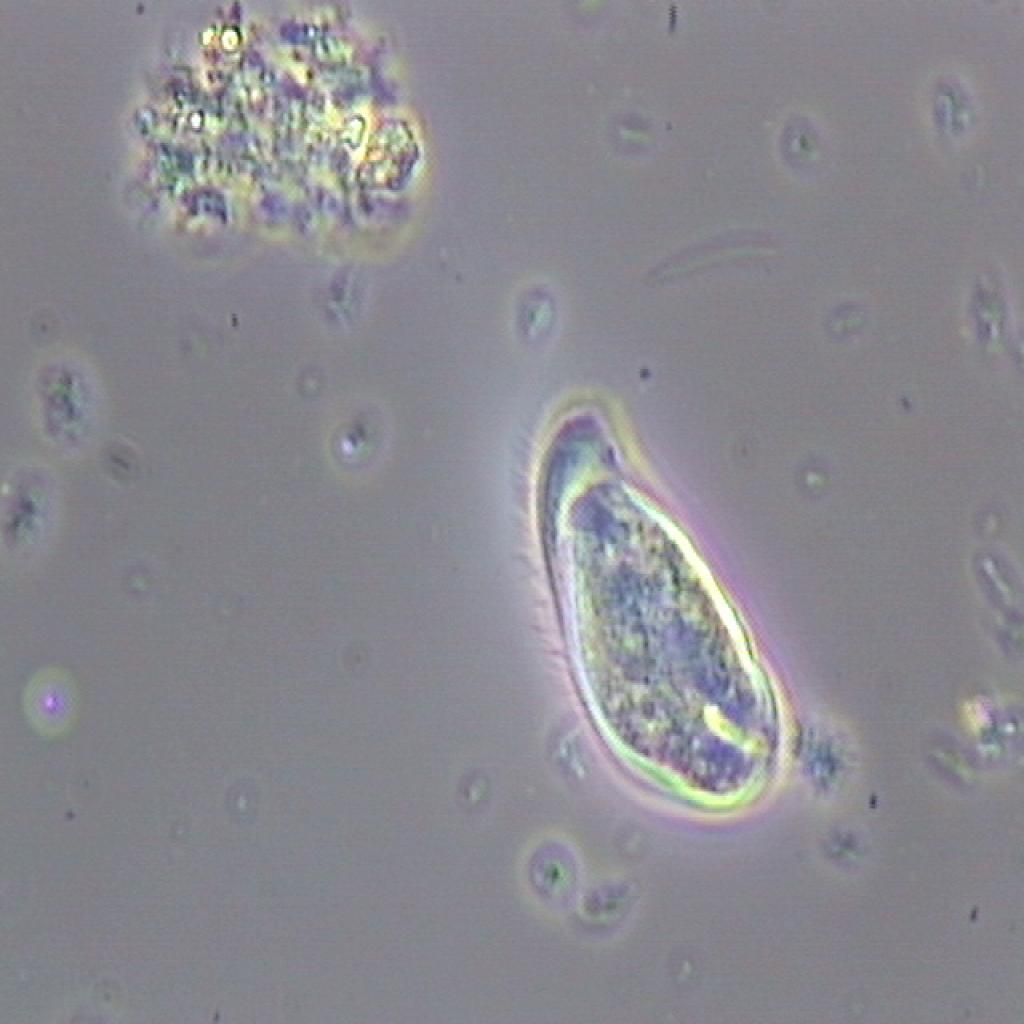Chilodonella: (506, 376, 835, 840)
